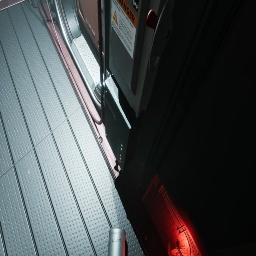NitrogenTank ,: (108, 228, 126, 256)
SafetySwitchPanel ,: (109, 0, 175, 118)
